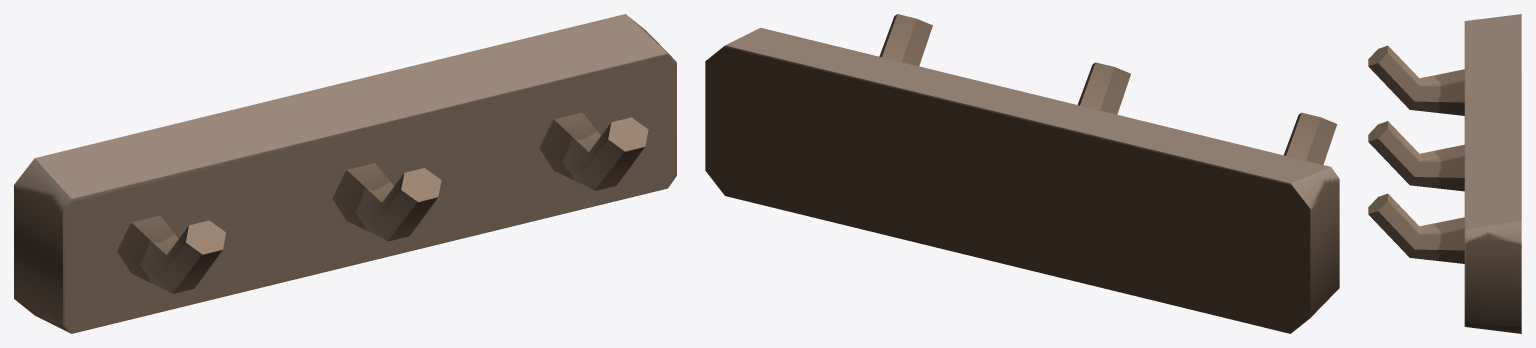
File: housepack_holder_1_meshCollider.FBX
3 views of the same model, side by side, from view 1: azimuth 30°, elevation 25°; view 2: azimuth 150°, elevation 25°; view 3: azimuth 270°, elevation 25° (orthographic). The views are drawn at different scales.
Visible parts, largest first — view 1: housepack_holder_1_meshCollider; view 2: housepack_holder_1_meshCollider; view 3: housepack_holder_1_meshCollider.
Boxes of the visible parts, bbox=[...] form: housepack_holder_1_meshCollider: bbox=[14, 14, 676, 333]; housepack_holder_1_meshCollider: bbox=[705, 14, 1339, 333]; housepack_holder_1_meshCollider: bbox=[1368, 14, 1521, 333].
Size of the model in its own units: 29.28 by 6.96 by 8.57.
